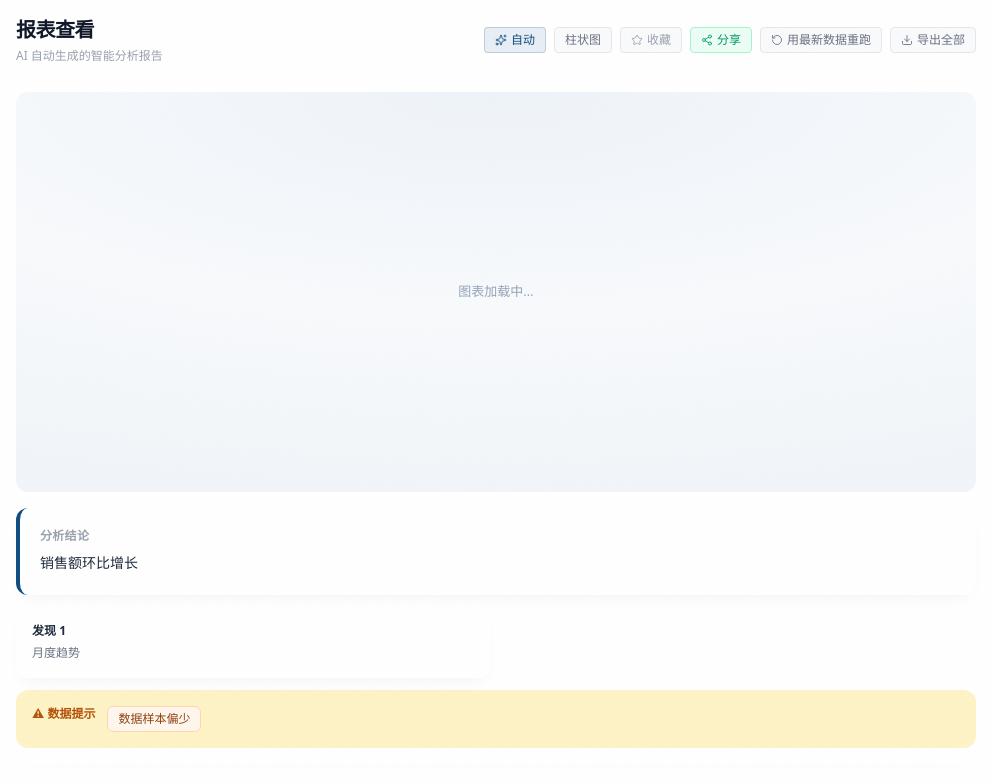
Scenario: Report 批量导出（阶段 53 · D） › 「导出全部」失败 → 页面内提示，不静默无反应
The width and height of the screenshot is (993, 783).
Expected: the heading "报表查看" is shown, [16, 16, 94, 43]
Click the button "导出全部".
click(933, 40)  # box [890, 27, 976, 53]
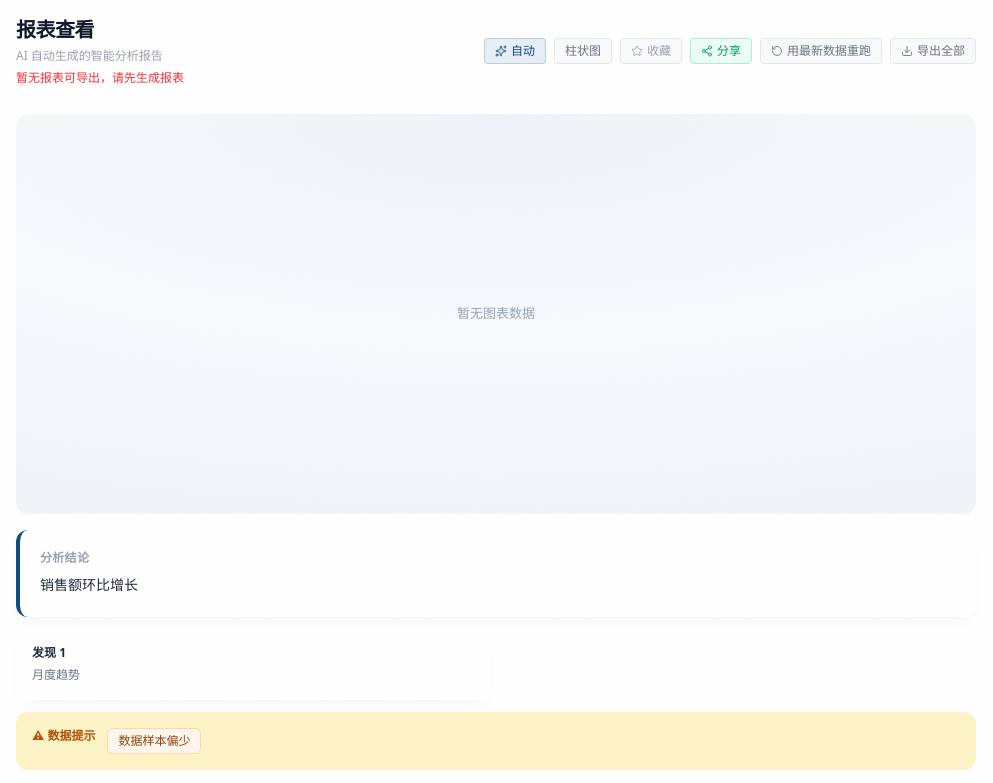
Expected: the text "暂无报表可导出，请先生成报表" is shown, [16, 70, 184, 86]
